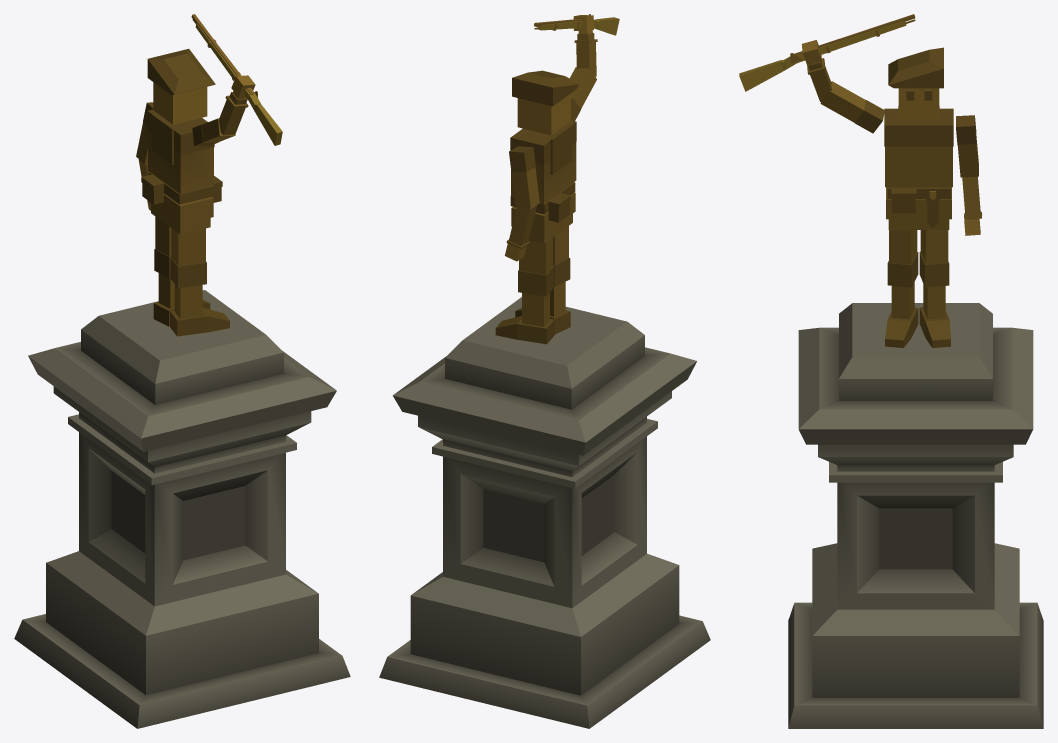
File: statuevictory.glb
The picture shows the model from 3 angles, left to right: view 1: azimuth 30°, elevation 25°; view 2: azimuth 150°, elevation 25°; view 3: azimuth 270°, elevation 25°; orthographic projection. The views are drawn at different scales.
Parts seen in each view (by area): view 1: Cube.002; view 2: Cube.002; view 3: Cube.002.
Part boxes in pixels (box(x1,y1,x2,y2)): Cube.002: box(14, 14, 350, 728); Cube.002: box(379, 14, 710, 728); Cube.002: box(739, 14, 1043, 728).
Bounding box in the file's own units: 2 × 5.75 × 2.38.
